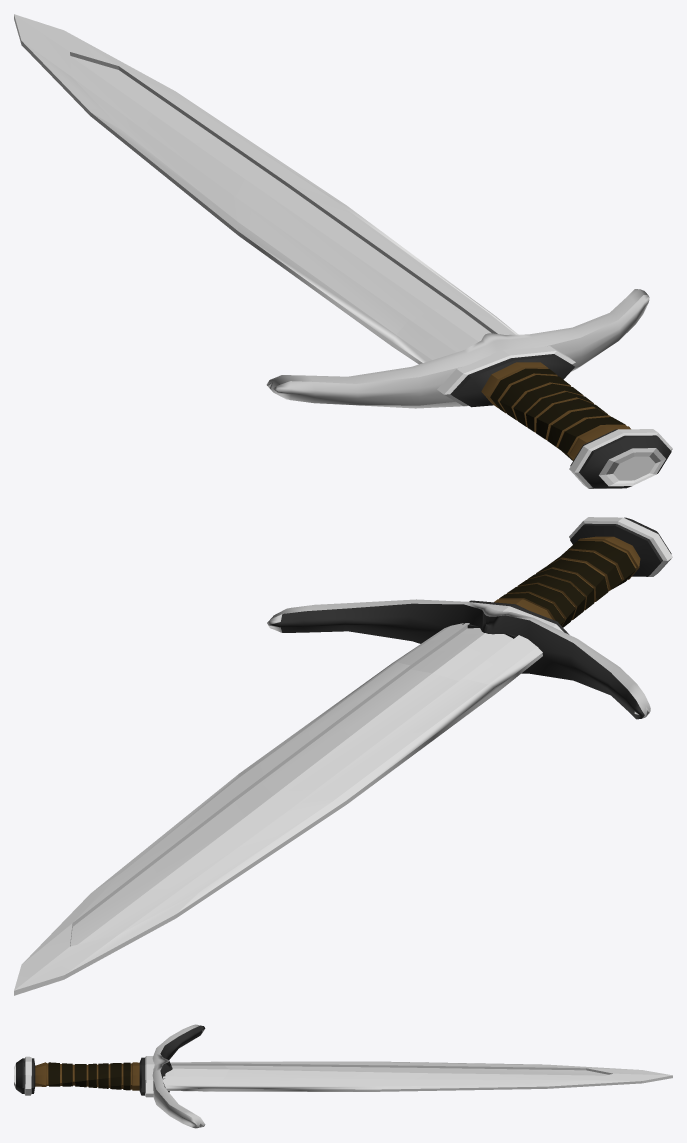
File: shortsword.fbx
3 views of the same model, one above another, from view 1: azimuth 30°, elevation 25°; view 2: azimuth 150°, elevation 25°; view 3: azimuth 270°, elevation 25° (orthographic). The views are drawn at different scales.
Parts seen in each view (by area): view 1: shortsword; view 2: shortsword; view 3: shortsword.
Part boxes in pixels (x1=…): shortsword: x1=14, y1=14, x2=672, y2=488; shortsword: x1=14, y1=517, x2=672, y2=995; shortsword: x1=14, y1=1024, x2=672, y2=1128.
Bounding box in the file's own units: 26.8 × 3.92 × 75.98.
